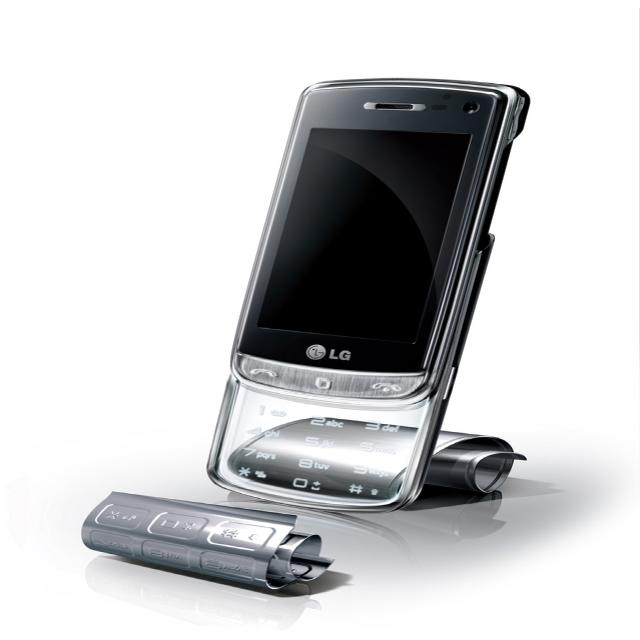Mobile phone: (199, 80, 532, 512)
